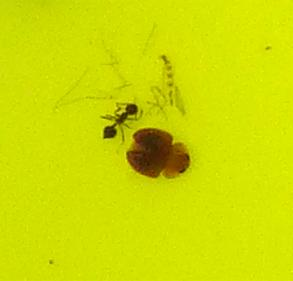Coleoptera: (123, 124, 193, 181)
Hymenoptera: (100, 100, 144, 141)
